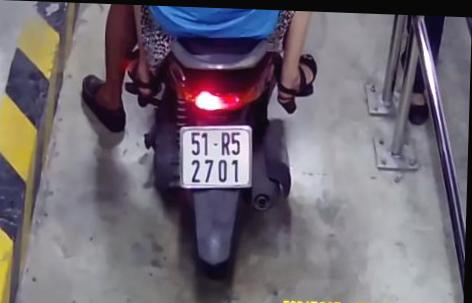License_Plate: (171, 122, 264, 197)
